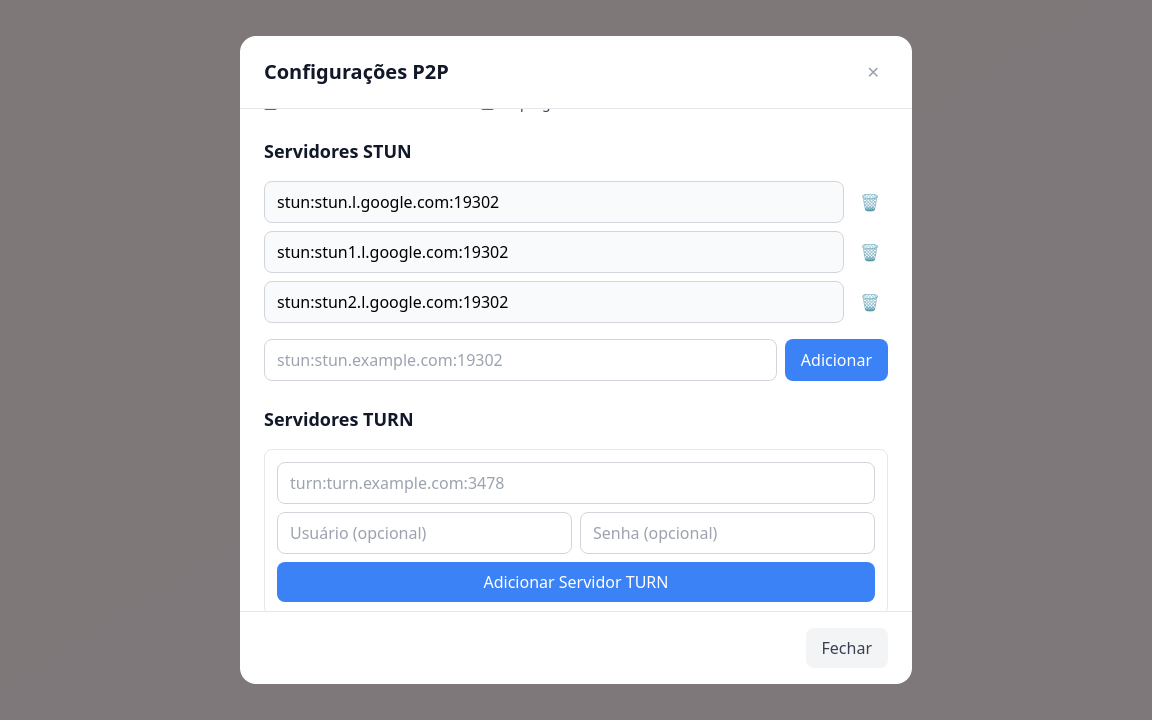
P2PConfigPanel › allows adding STUN servers
(page scrolled)
Type "stun:stun.test.com:19302" into the field with placeholder "stun:stun.example.com:19302" at (520, 360), box [264,339,777,381]
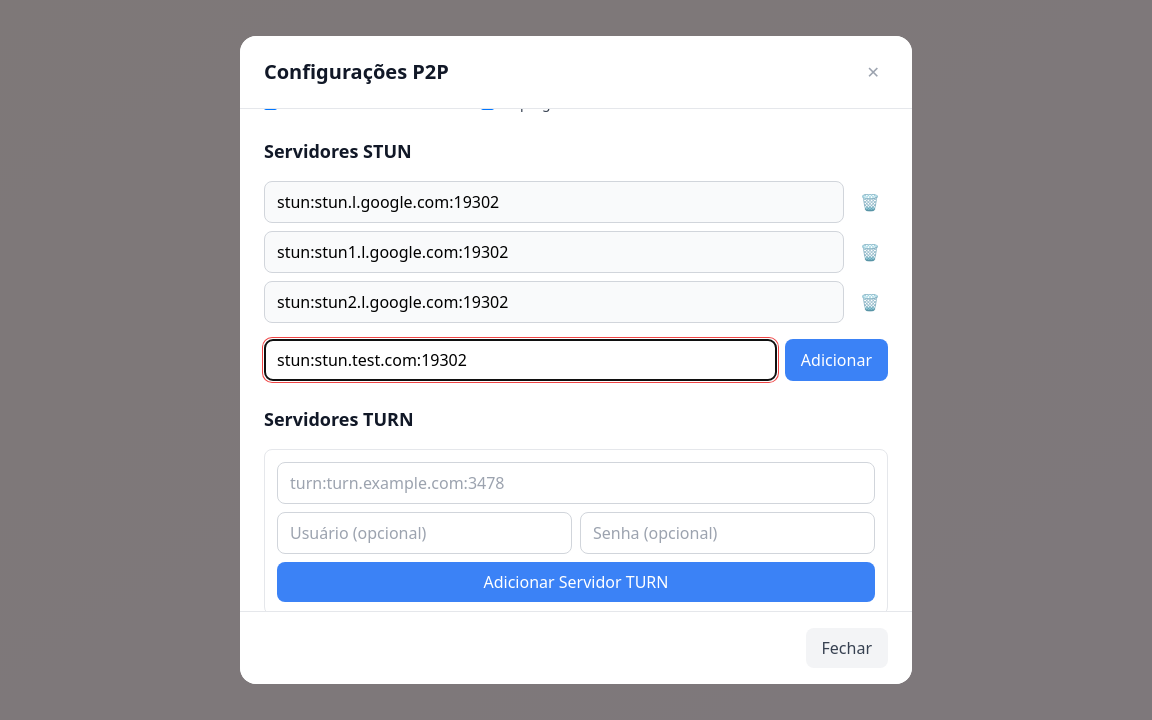
Click the button "Adicionar" at (836, 360), box [785,339,888,381]
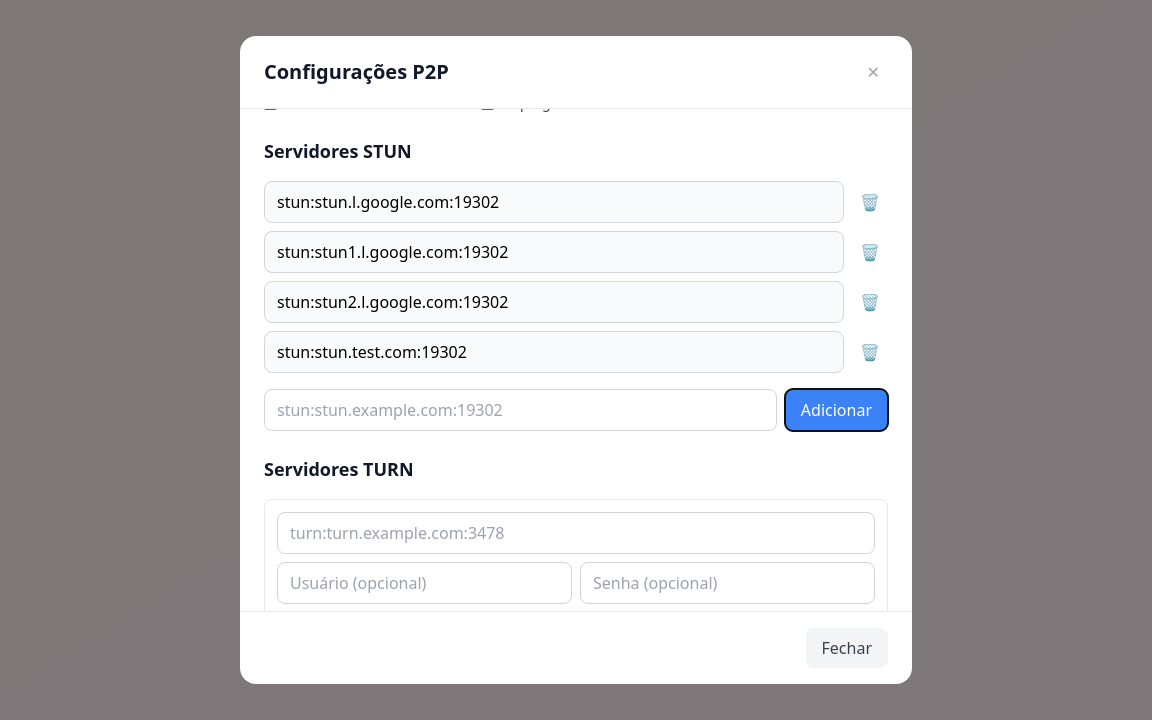
Now the 4th field showing "stun:stun.test.com:19302" is shown, box [264,331,844,373]
